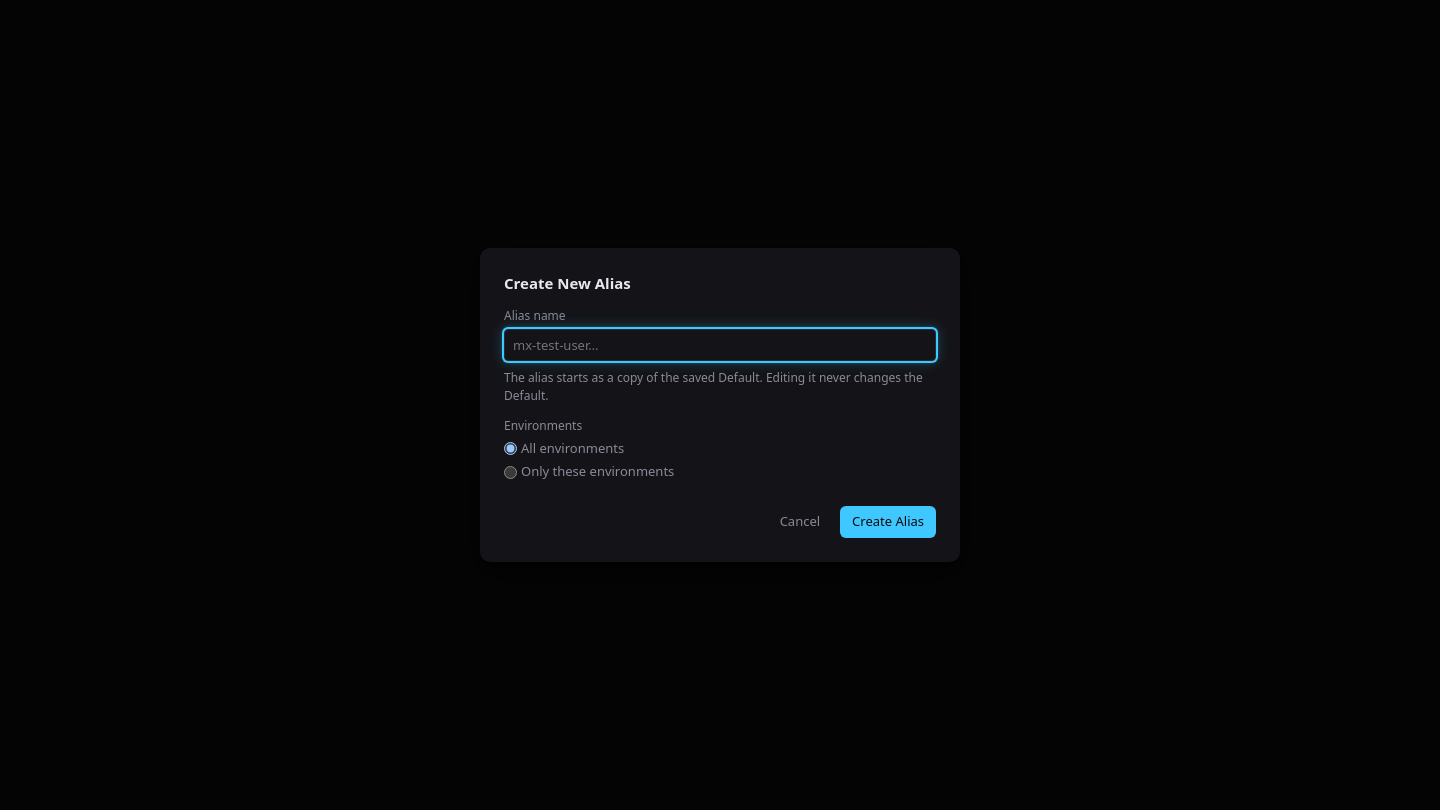
CreateAliasDialog environments › needs an environment ticked under Only these environments
Type "canary" into the field labelled "Alias name".
click(720, 345); type("canary")  # box [504,329,936,361]
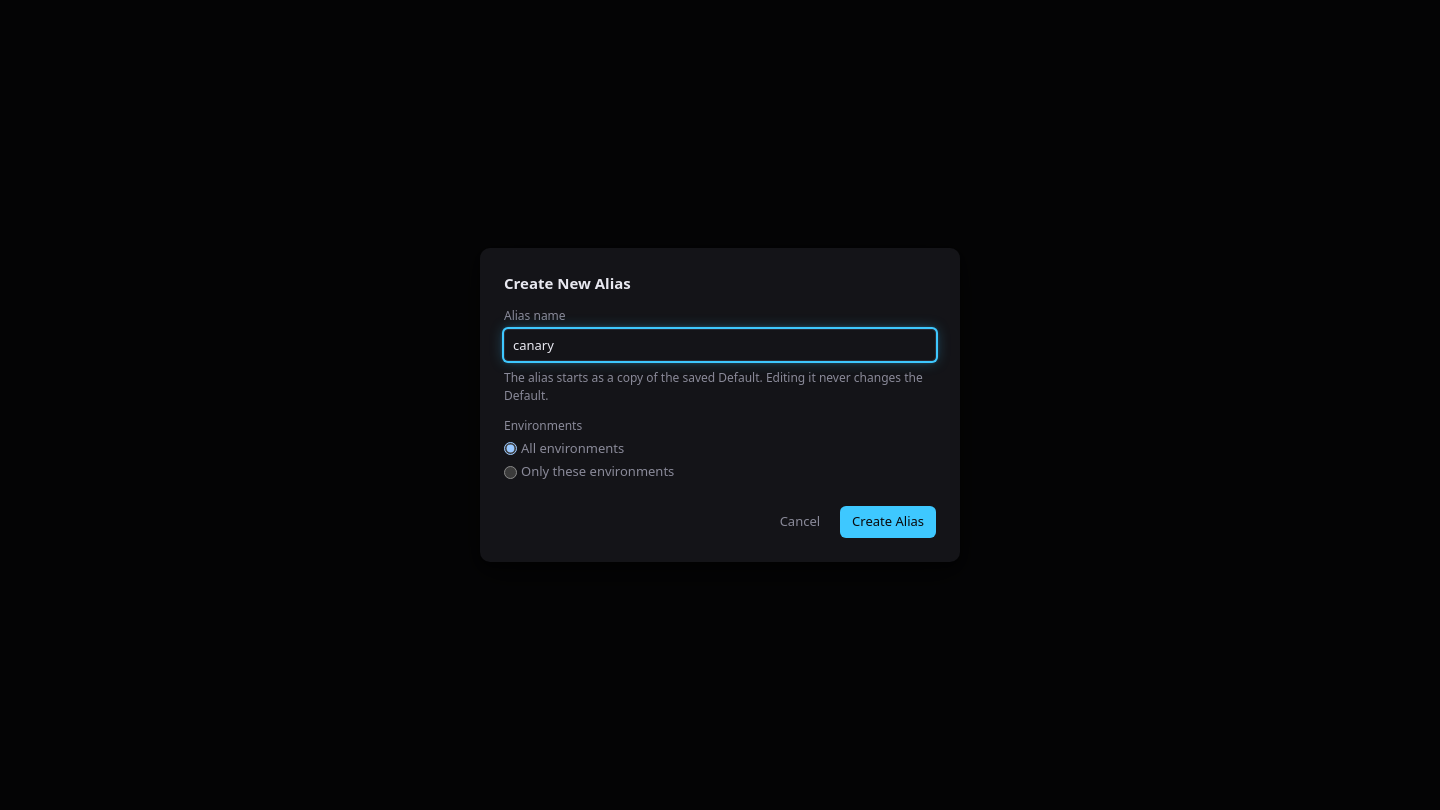
Click the radio button labelled "Only these environments".
click(510, 472)  # box [504,466,517,478]
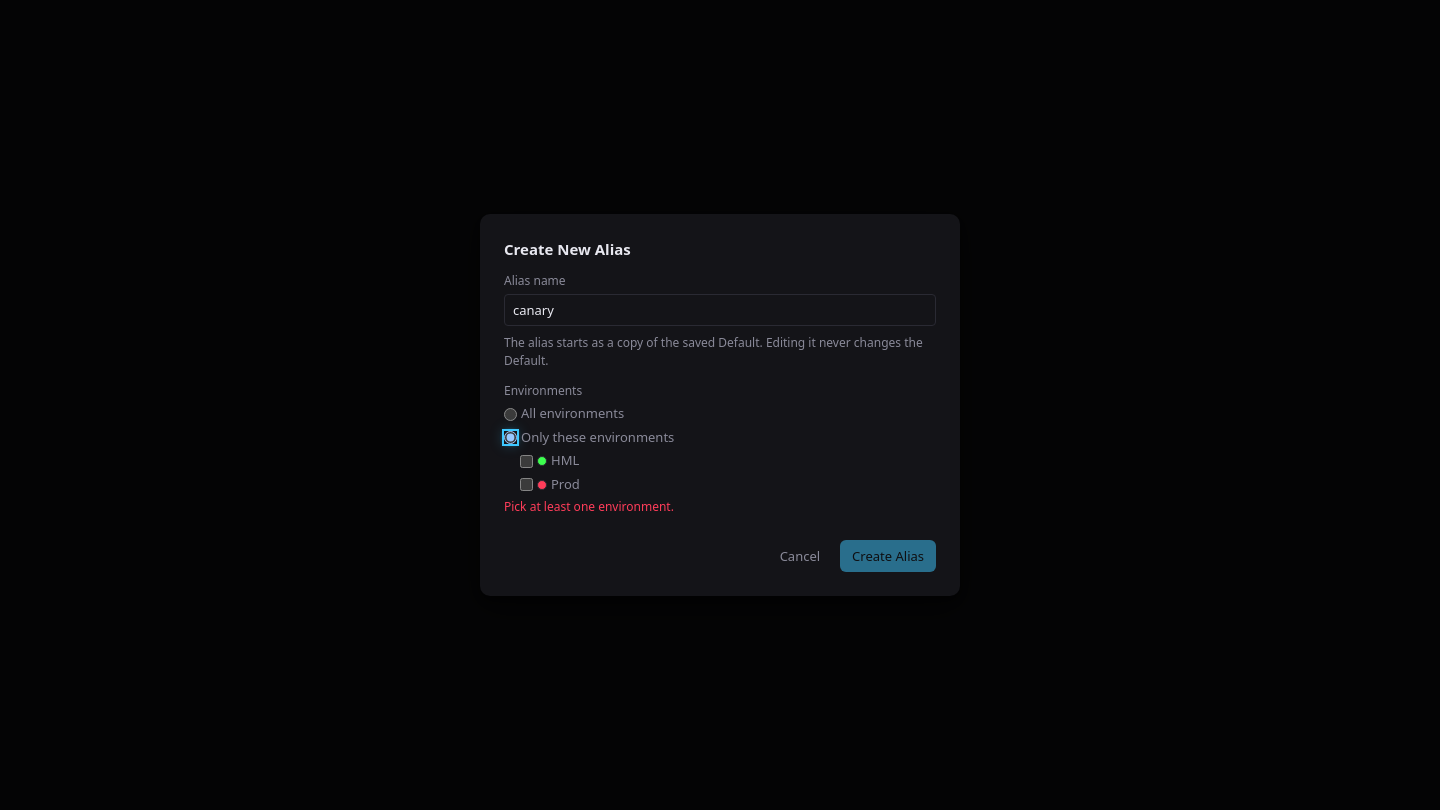
Result: the button "Create Alias" is disabled at [840,540,936,572]
